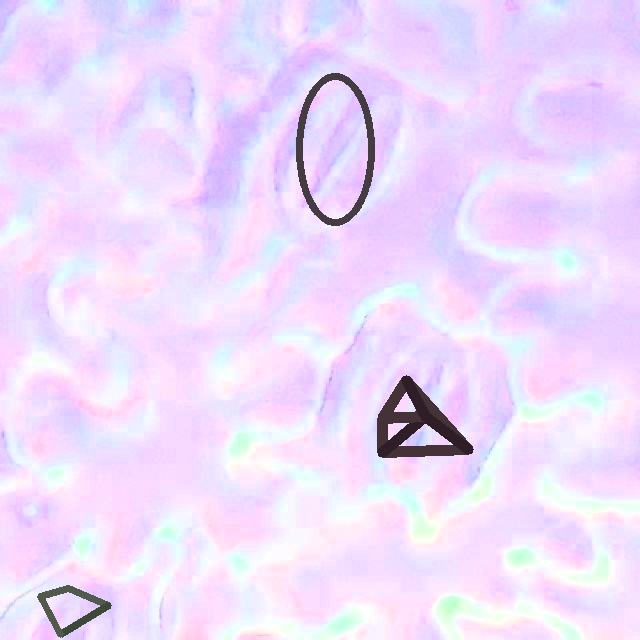open: (295, 72, 374, 226), (378, 376, 472, 456), (37, 585, 111, 637)
